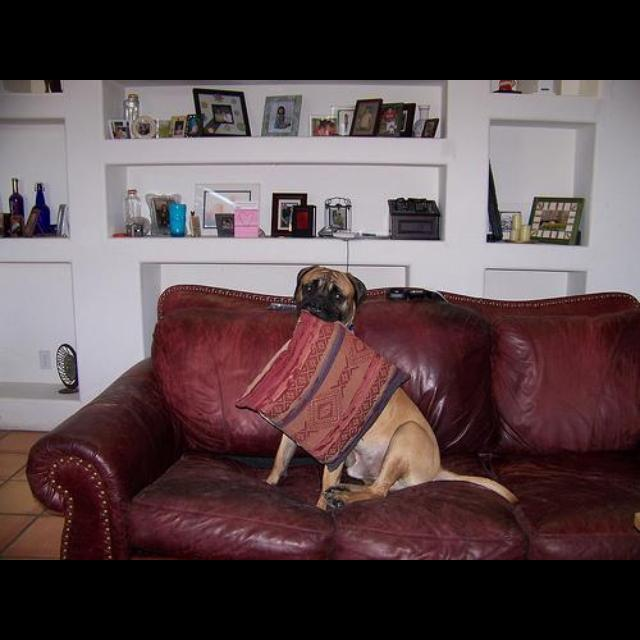bullmastiff: (265, 264, 519, 512)
